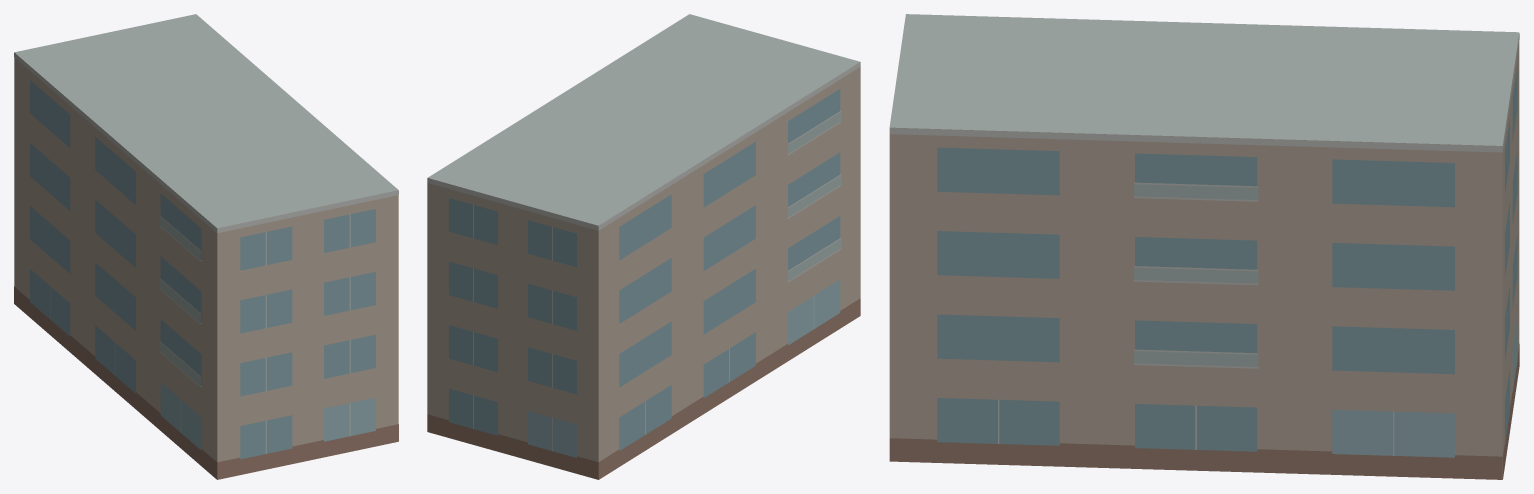
File: survey-upis-32871934.glb
3 renders of one model, left to right at view 1: azimuth 30°, elevation 25°; view 2: azimuth 150°, elevation 25°; view 3: azimuth 270°, elevation 25°, orthographic. The views are drawn at different scales.
Visible parts, largest first — view 1: survey-upis-32871934.tmp; view 2: survey-upis-32871934.tmp; view 3: survey-upis-32871934.tmp.
Boxes of the visible parts, left/top/right/bottom form: survey-upis-32871934.tmp: left=14, top=14, right=398, bottom=479; survey-upis-32871934.tmp: left=427, top=14, right=860, bottom=479; survey-upis-32871934.tmp: left=889, top=14, right=1519, bottom=479.
Bounding box in the file's own units: 10.61 × 12.5 × 21.39.
